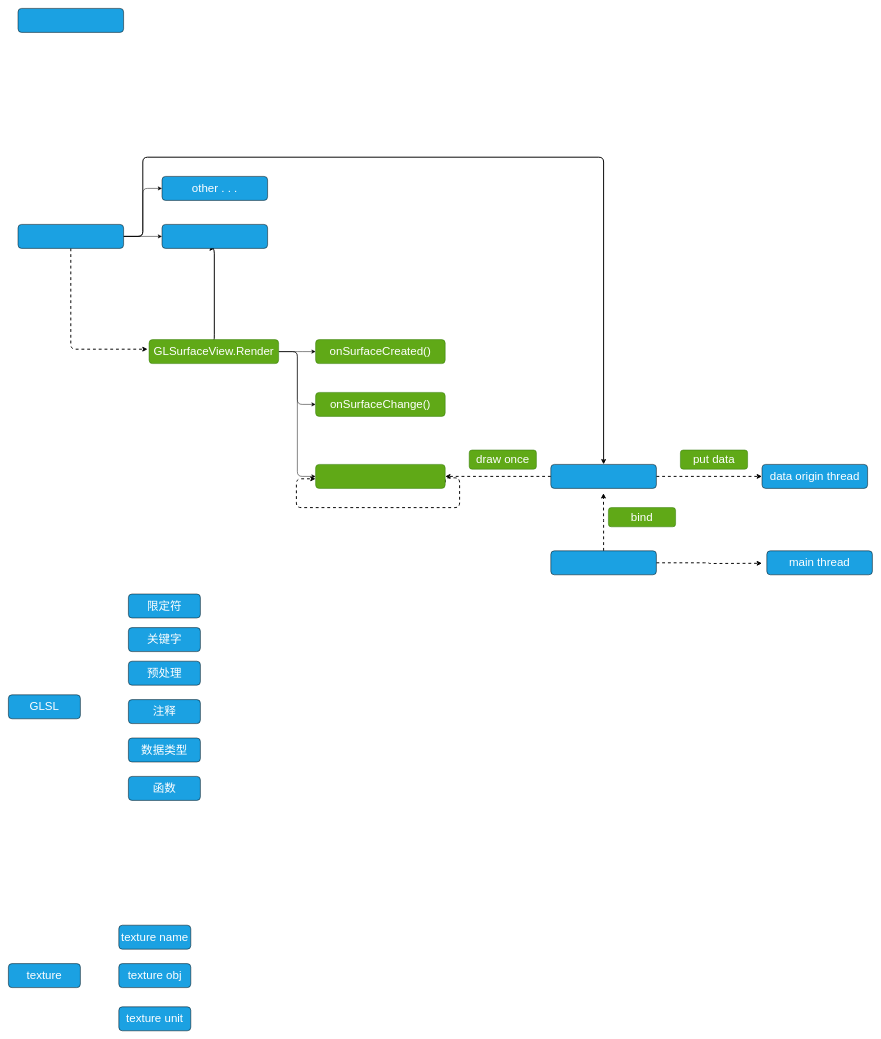
This 881x1039 diagram has some shape labels left out. Each missing label, with the centre of its shape:
"async gl entity" belongs at (x=603, y=476).
"entity manager" belongs at (x=603, y=562).
"GLSurfaceView" belongs at (x=71, y=236).
"onDrawFrame()" belongs at (x=380, y=476).
"opengl 清单声明" belongs at (x=71, y=20).
"setRenderer()" belongs at (x=215, y=236).
